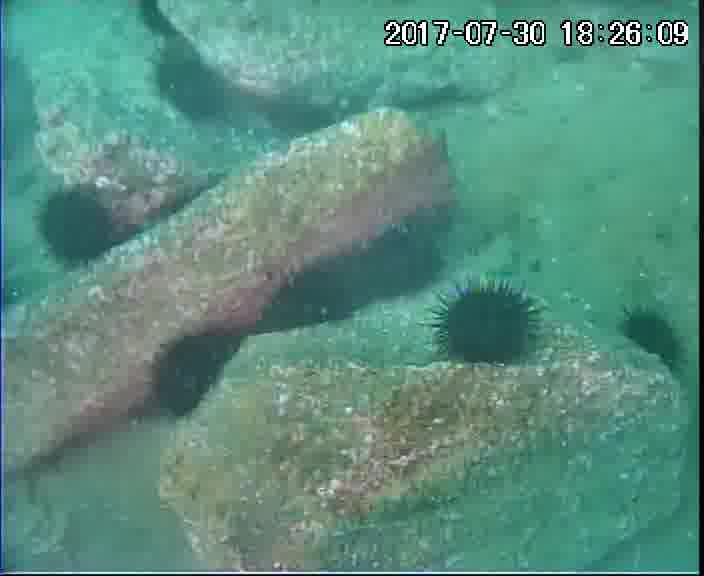echinus: (142, 333, 244, 417), (436, 282, 539, 365), (266, 262, 360, 335), (38, 187, 115, 267), (357, 226, 444, 295), (156, 53, 231, 120), (621, 305, 686, 373), (130, 1, 185, 44)
